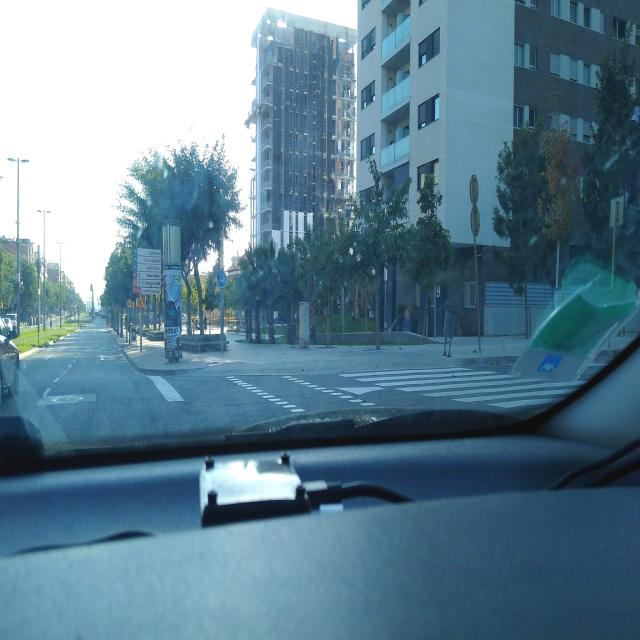car: (0, 292, 20, 421), (2, 312, 18, 335)
